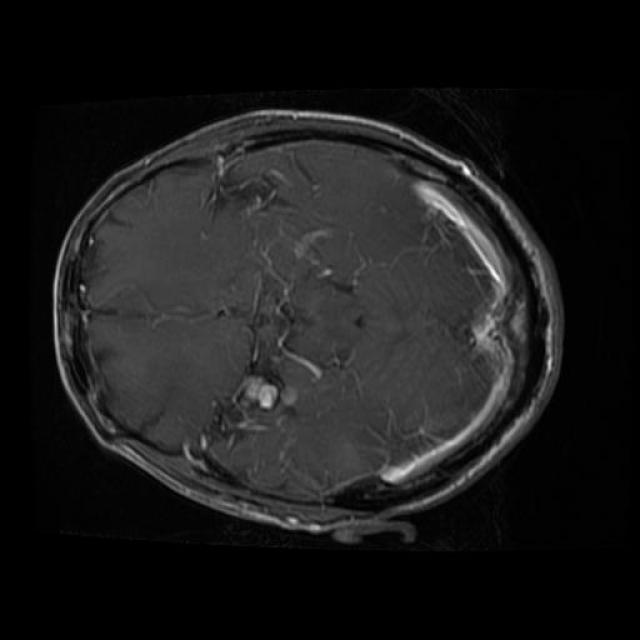Glioma: (226, 348, 296, 450)
